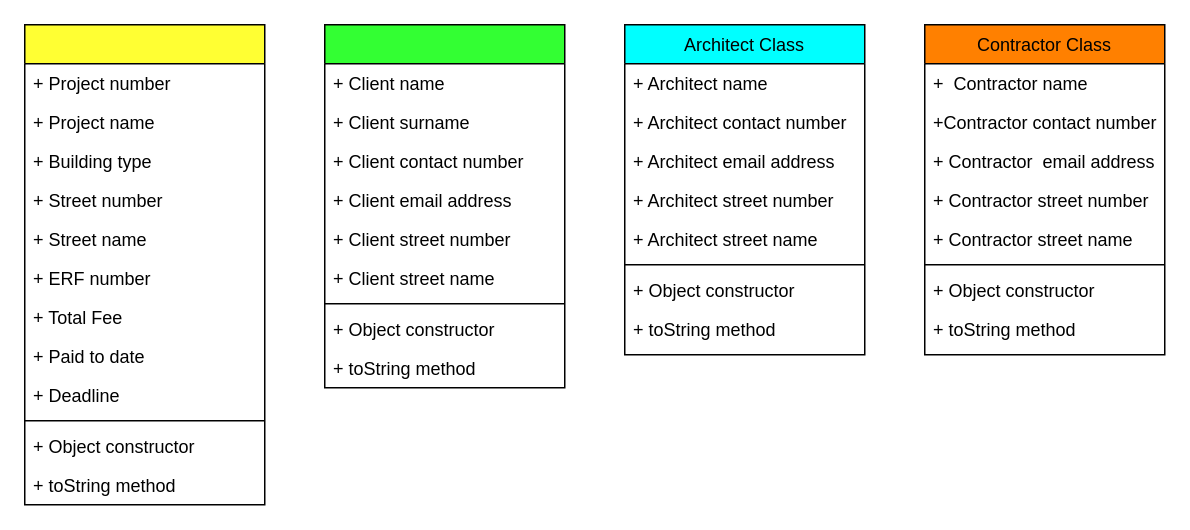
This 1190x530 diagram has some shape labels left out. Here are the shapes that lost their labels. From the top down, the box of each, then its label:
(323, 23, 565, 388): Client Class
(23, 23, 265, 505): Project Class
